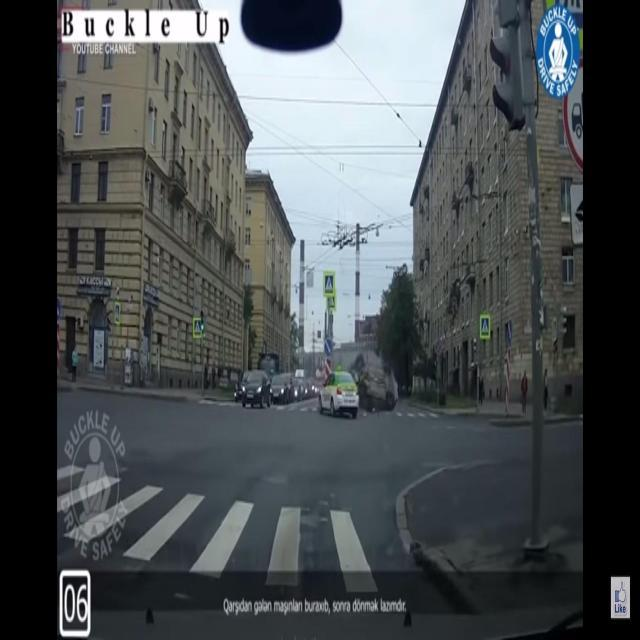accident: (318, 362, 398, 420)
